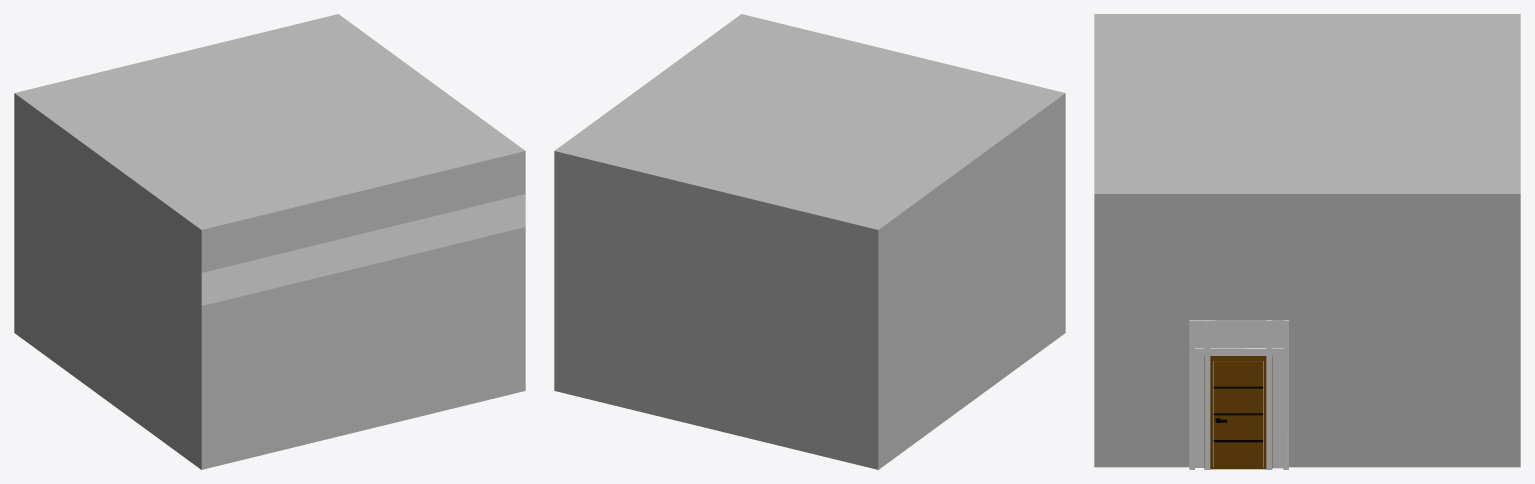
File: ruangan tbg.fbx
The picture shows the model from 3 angles, left to right: view 1: azimuth 30°, elevation 25°; view 2: azimuth 150°, elevation 25°; view 3: azimuth 270°, elevation 25°; orthographic projection. The views are drawn at different scales.
Visible parts, largest first — view 1: Cube; view 2: Cube; view 3: Cube, pintu.002, pintu.007, pintu.001.
Part boxes in pixels (x1=…): Cube: x1=14, y1=14, x2=525, y2=469; Cube: x1=554, y1=14, x2=1065, y2=469; Cube: x1=1094, y1=14, x2=1520, y2=467; pintu.002: x1=1204, y1=356, x2=1272, y2=469; pintu.007: x1=1189, y1=320, x2=1288, y2=469; pintu.001: x1=1195, y1=328, x2=1283, y2=468.
Size of the model in its own units: 2913 by 2068 by 2901.
